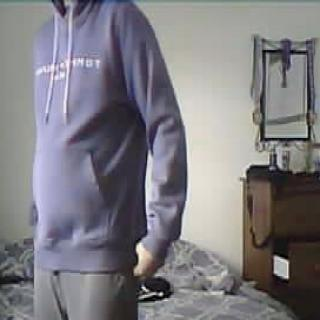Blue Hoodie: (6, 7, 188, 271)
Gray Sweatpants: (20, 268, 153, 320)
